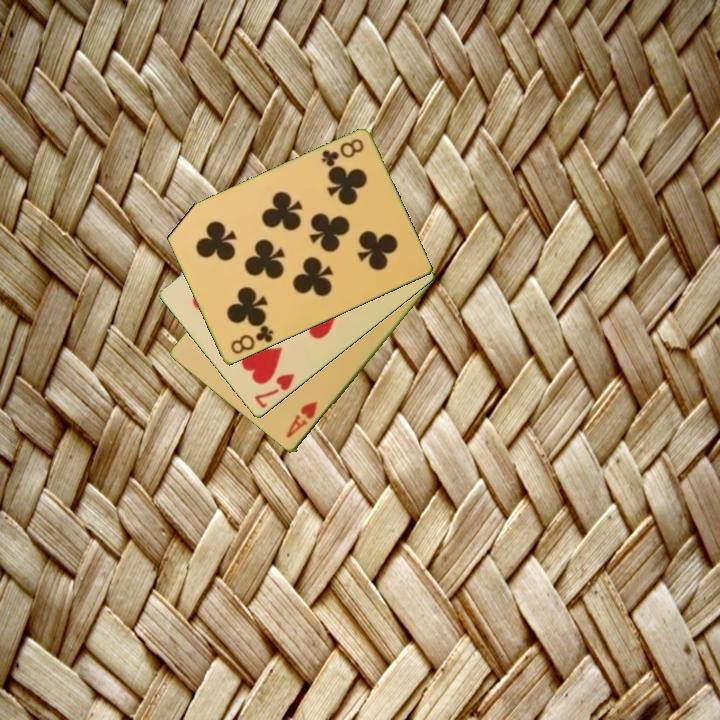7h: (251, 370, 298, 412)
8c: (227, 322, 276, 357), (318, 135, 367, 170)
Ah: (282, 398, 320, 442)
